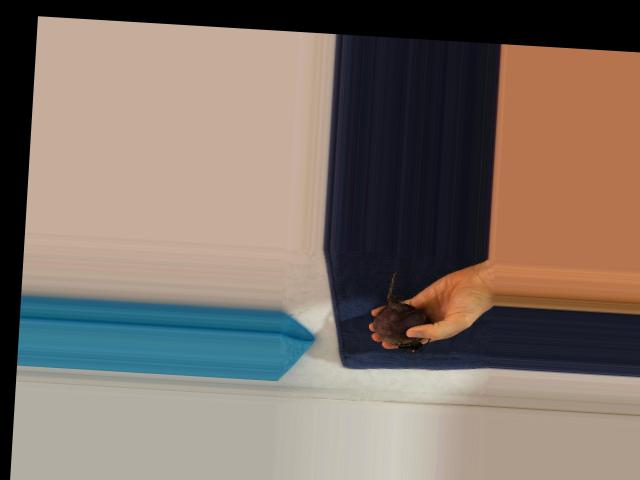beet: (371, 268, 434, 353)
